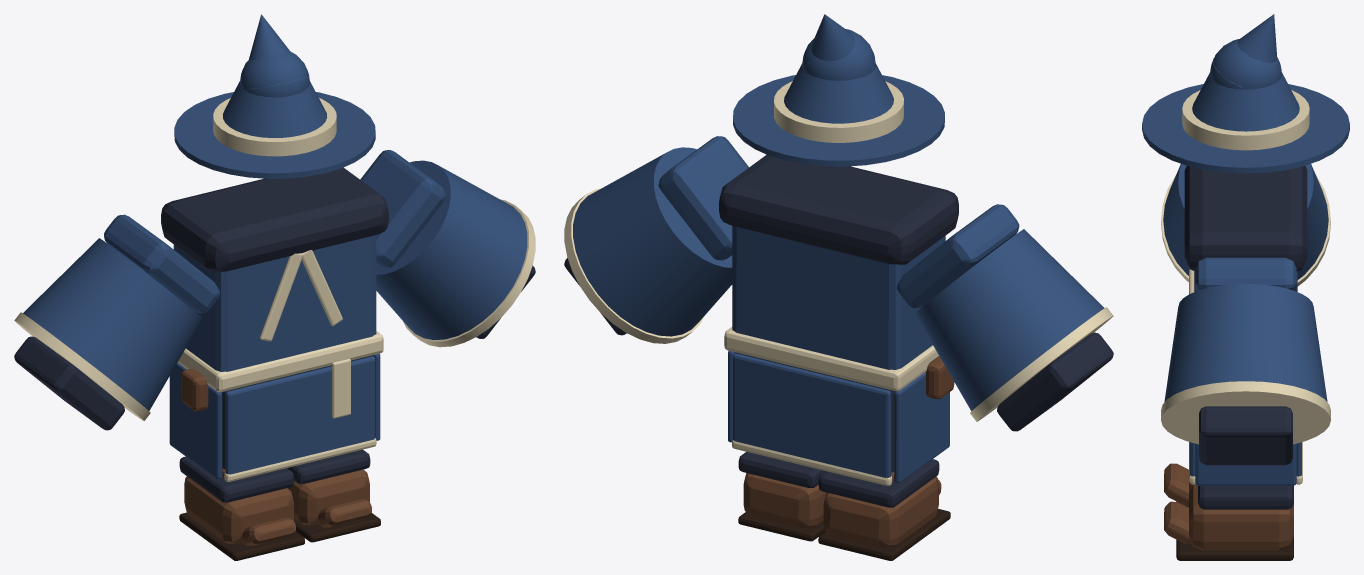
The model's file is ApprenticeArmorSet.glb.
The picture shows the model from 3 angles, left to right: view 1: azimuth 30°, elevation 25°; view 2: azimuth 150°, elevation 25°; view 3: azimuth 270°, elevation 25°; orthographic projection. The views are drawn at different scales.
Visible parts, largest first — view 1: ApprenticeChestplate, Right (×2), Left (×2), ApprenticeHelmet; view 2: ApprenticeChestplate, Right (×2), Left (×2), ApprenticeHelmet; view 3: Left (×2), ApprenticeHelmet, ApprenticeChestplate, Right (×2).
Boxes of the visible parts, x1=… form: ApprenticeChestplate: x1=161, y1=167, x2=388, y2=481; Right (×2): x1=14, y1=214, x2=304, y2=560; Left (×2): x1=287, y1=150, x2=535, y2=542; ApprenticeHelmet: x1=174, y1=14, x2=375, y2=178; ApprenticeChestplate: x1=719, y1=154, x2=958, y2=485; Right (×2): x1=818, y1=204, x2=1113, y2=560; Left (×2): x1=564, y1=136, x2=826, y2=541; ApprenticeHelmet: x1=733, y1=14, x2=944, y2=166; Left (×2): x1=1161, y1=257, x2=1330, y2=560; ApprenticeHelmet: x1=1142, y1=14, x2=1349, y2=173; ApprenticeChestplate: x1=1184, y1=166, x2=1307, y2=485; Right (×2): x1=1161, y1=164, x2=1330, y2=507.
Size of the model in its own units: 6.48 by 6.24 by 2.3.
